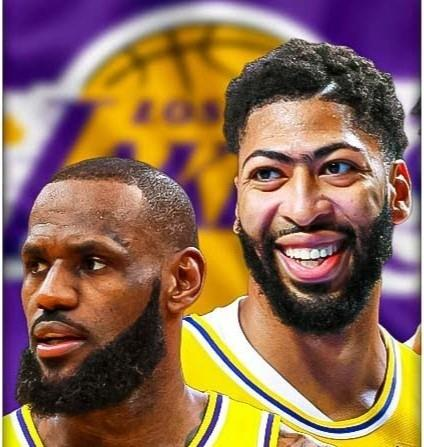feliz: (219, 25, 411, 318)
normal: (6, 140, 212, 431)
